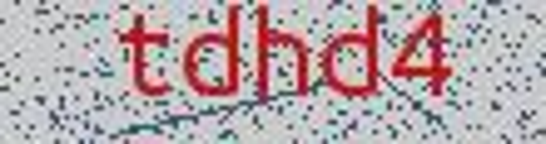4: (388, 4, 462, 106)
d: (180, 1, 246, 107), (320, 4, 386, 107)
h: (251, 2, 315, 114)
t: (114, 7, 176, 105)
